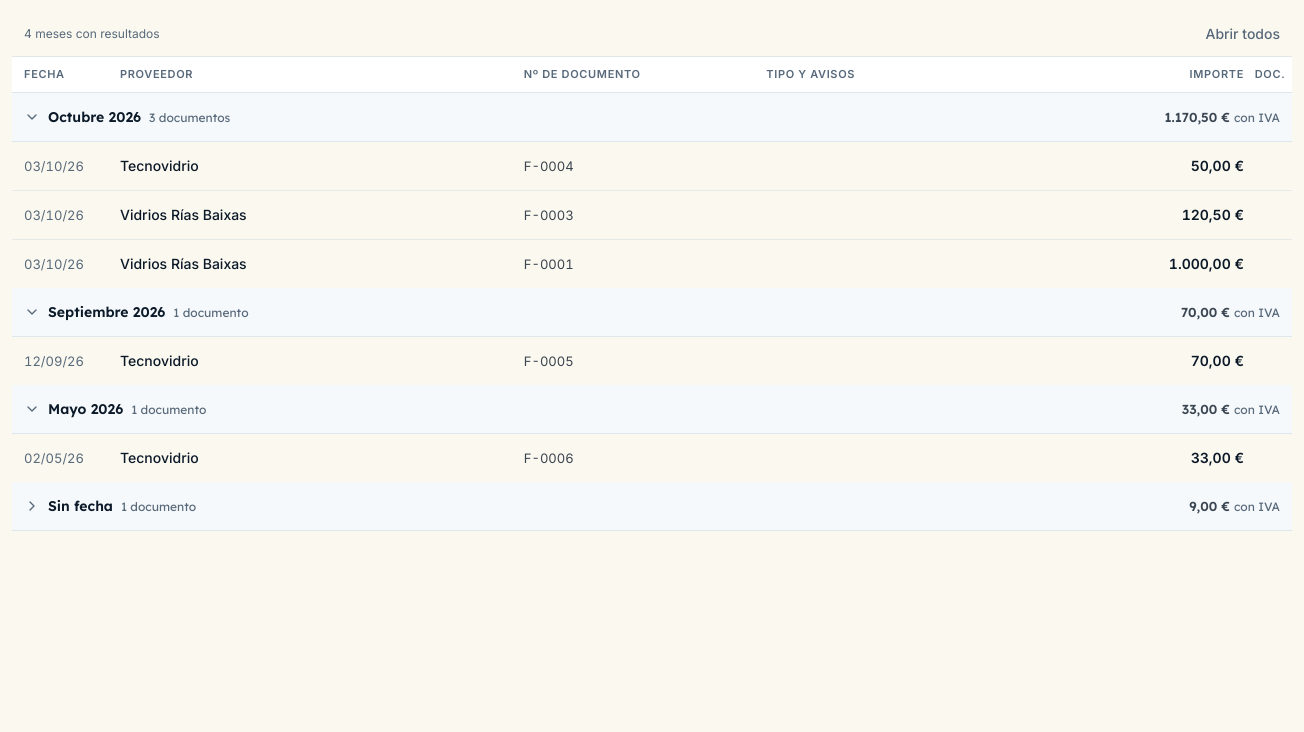
Test case: ListaDocumentos agrupada por mes › con texto buscado: solo los 3 meses más recientes con resultados, y «Abrir todos» / «Plegar todos»
expect the element with test id "barra-meses" shows "4 meses con resultados": met, box [12, 12, 1292, 57]
What coordinates should you click on to do the following:
click the button "Abrir todos"
I would click on:
 (1243, 34)
Its box is [1194, 12, 1292, 56].
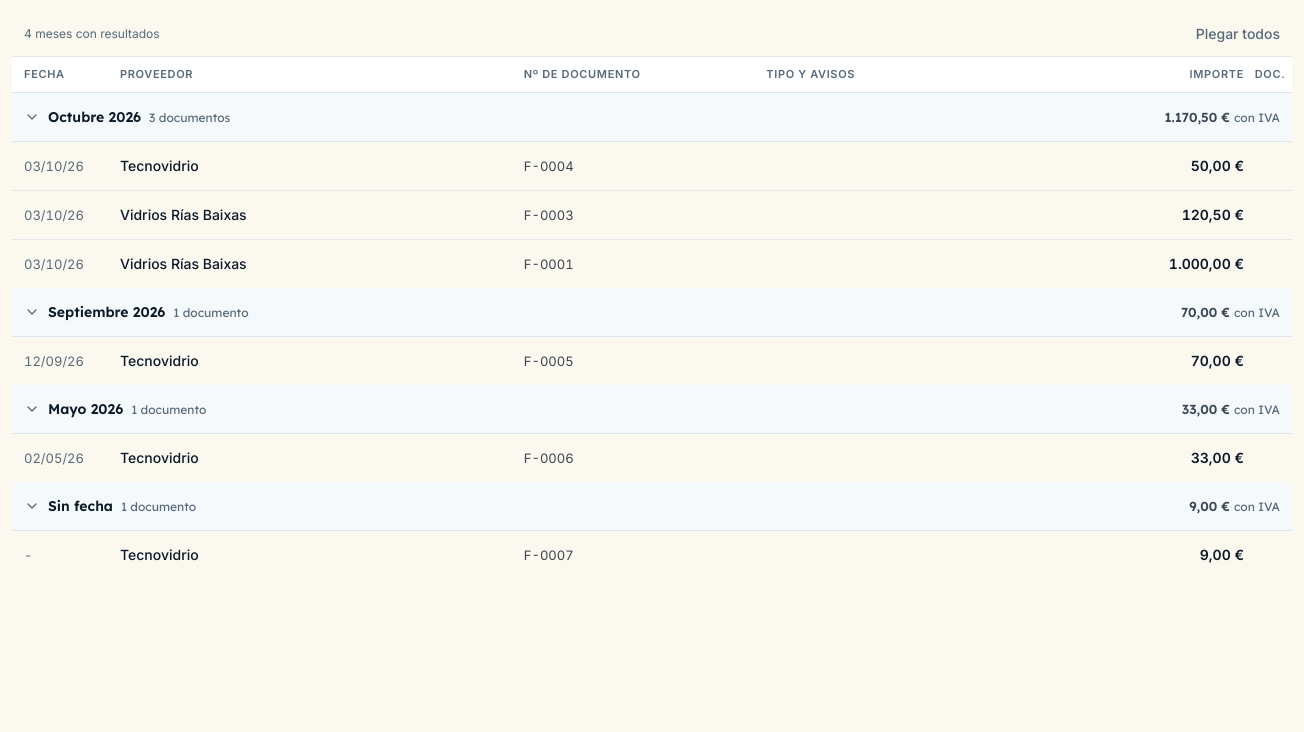
expect the button "Sin fecha 1 documento 9,00 € con IVA" is expanded: met, box [12, 482, 1292, 530]
expect the text "F-0007" is shown: met, box [524, 547, 574, 563]
What coordinates should you click on to do the following:
click the button "Plegar todos"
I would click on:
 (1238, 34)
Its box is [1184, 12, 1292, 56].
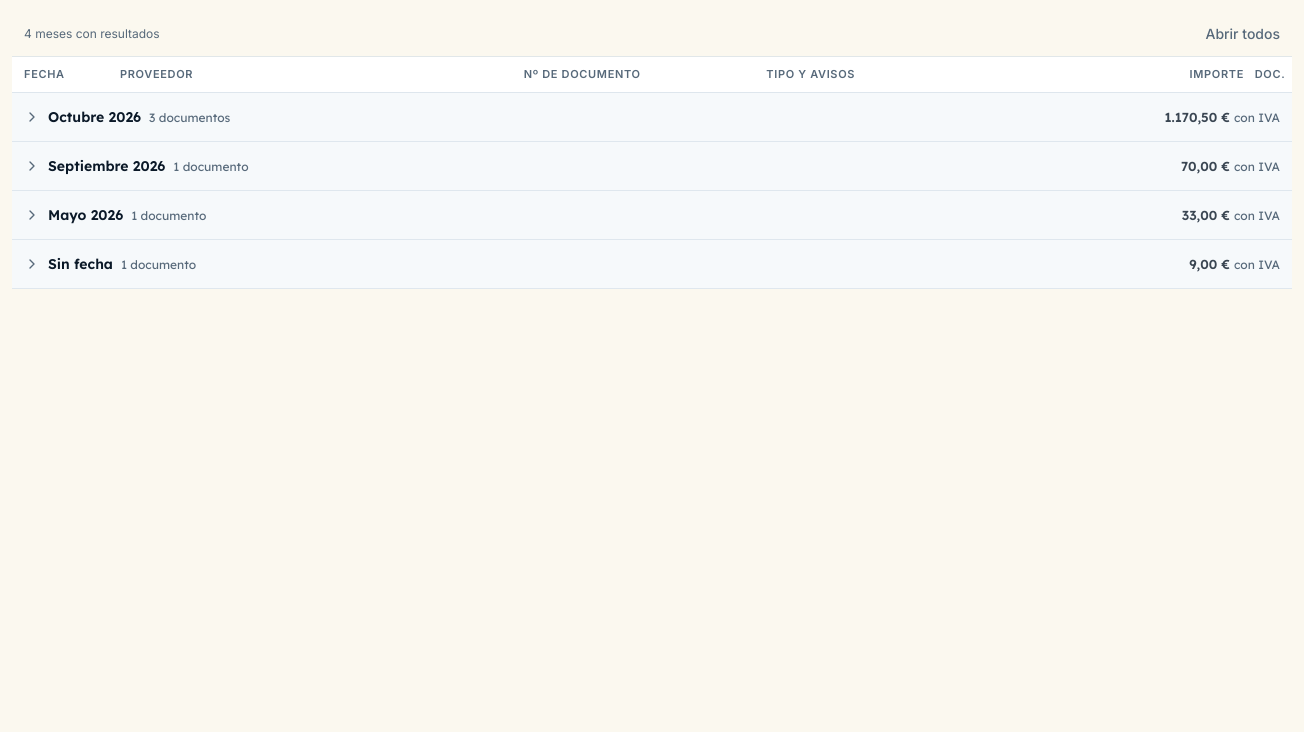
expect the button "Octubre 2026 3 documentos 1.170,50 € con IVA" is collapsed: met, box [12, 93, 1292, 141]
expect the button "Septiembre 2026 1 documento 70,00 € con IVA" is collapsed: met, box [12, 142, 1292, 190]
expect the button "Mayo 2026 1 documento 33,00 € con IVA" is collapsed: met, box [12, 191, 1292, 239]
